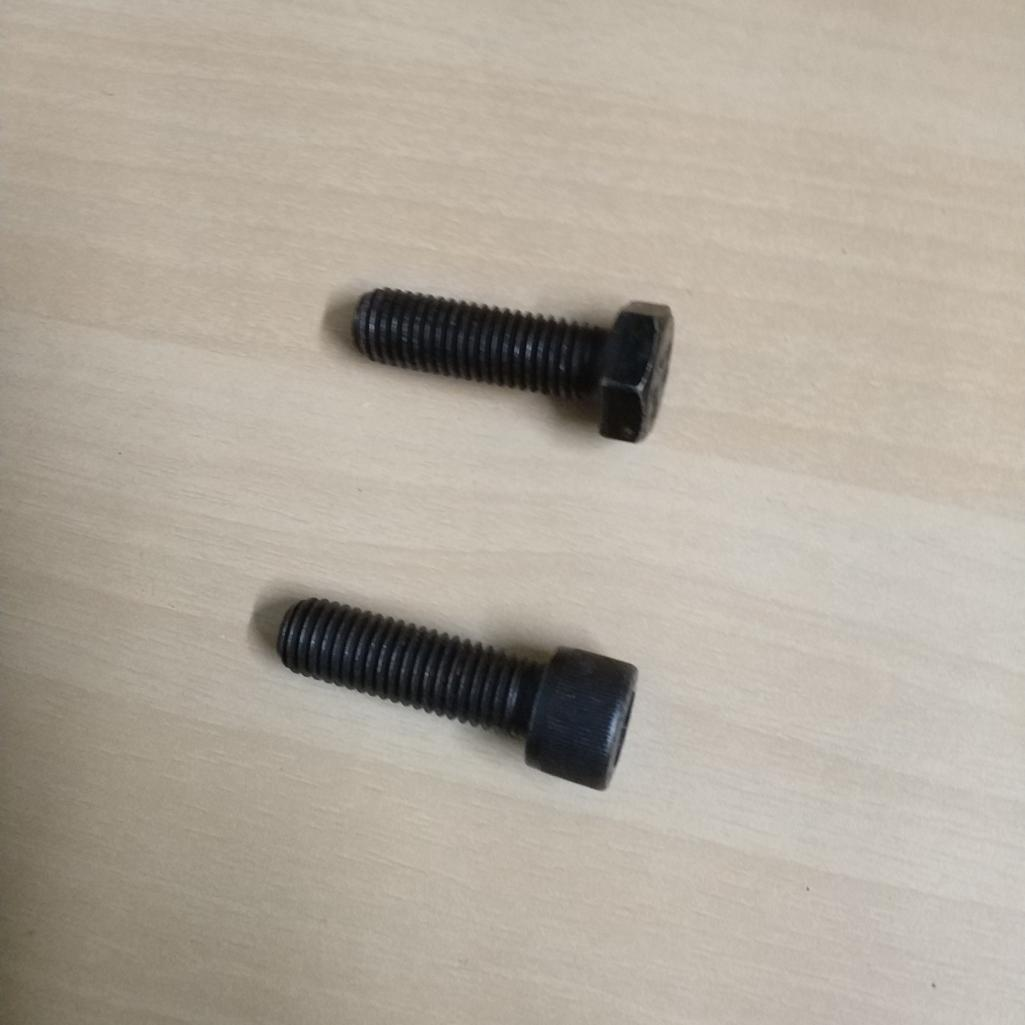screwtype1black: (258, 563, 645, 808)
screwtype2black: (327, 242, 678, 461)
